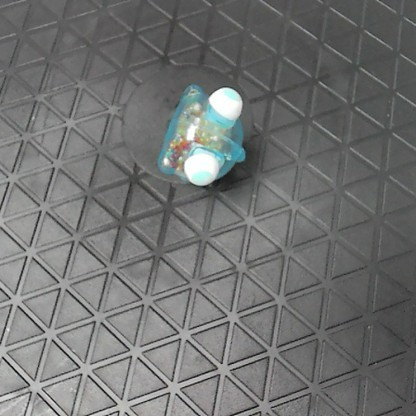bluefish: (159, 79, 246, 192)
